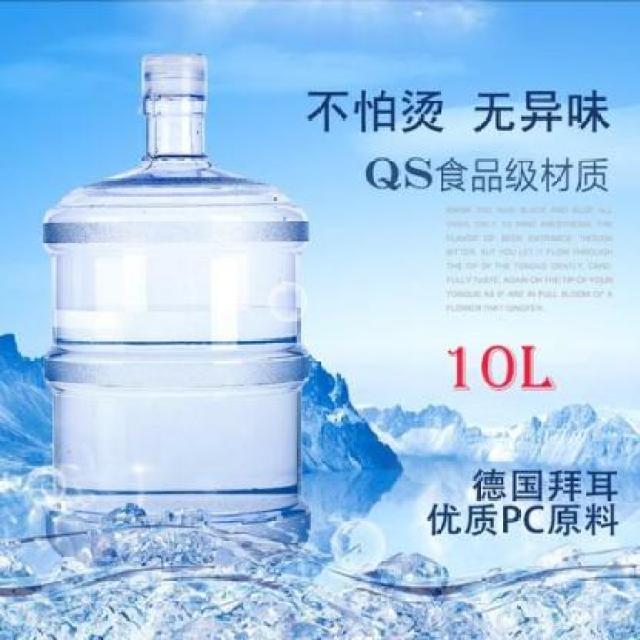coolerbottle: (38, 49, 314, 554)
